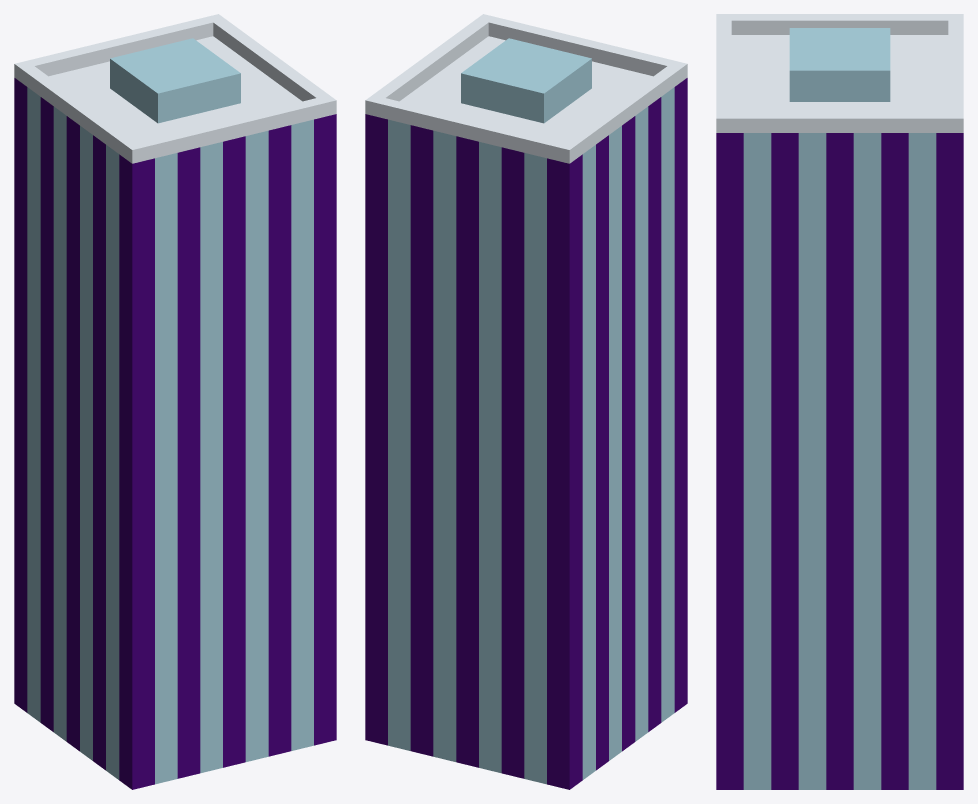
Rendered from buildings_3.dae.
3 views of the same model, side by side, from view 1: azimuth 30°, elevation 25°; view 2: azimuth 150°, elevation 25°; view 3: azimuth 270°, elevation 25° (orthographic). The views are drawn at different scales.
Parts seen in each view (by area): view 1: group_0 (×12); view 2: group_0 (×12); view 3: group_0 (×8).
Part boxes in pixels (x1,y1,x2,y2): group_0 (×12): (14,14,336,789); group_0 (×12): (365,14,687,789); group_0 (×8): (716,14,963,789).
Size of the model in its own units: 134 by 134 by 411.
